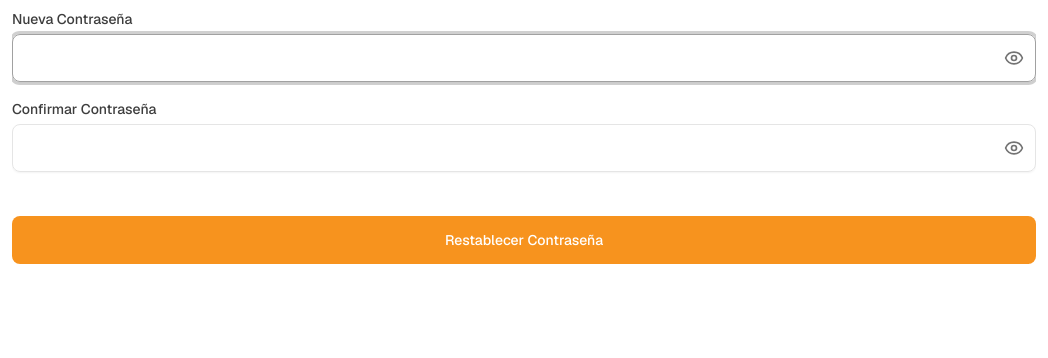
Scenario: PasswordConfirmForm › Error Handling › shows error message when update fails
Type "newpassword123" into the password field labelled "Nueva Contraseña" at [524, 58], box [12,34,1036,82]
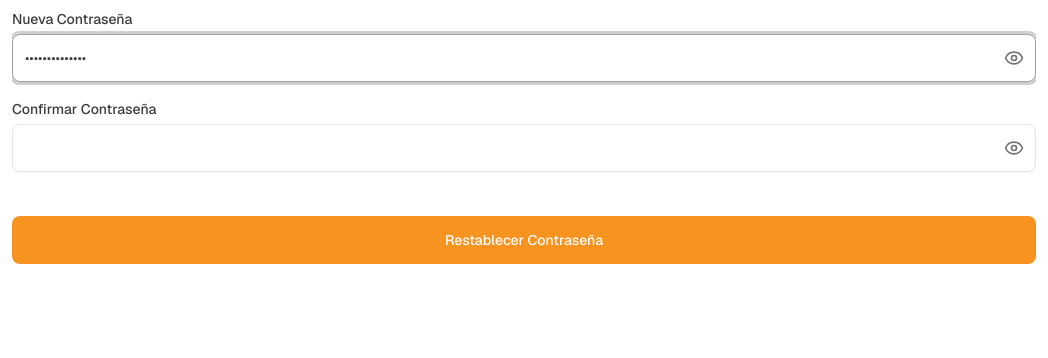
Type "newpassword123" into the password field labelled "Confirmar Contraseña" at [524, 148], box [12,124,1036,172]
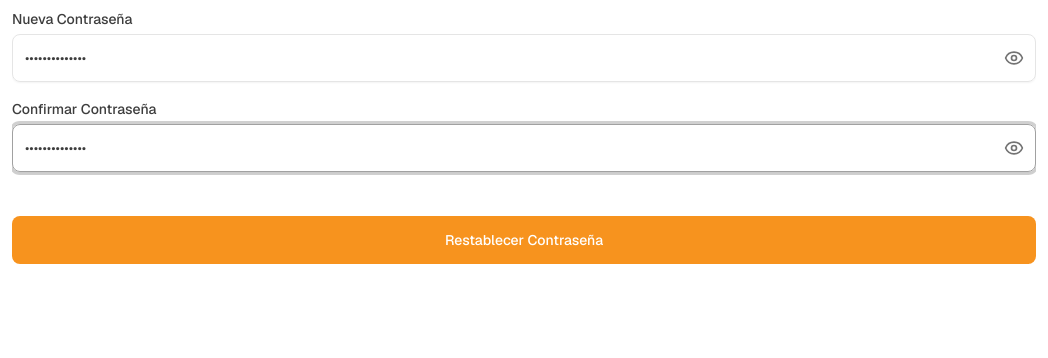
Click the button "Restablecer Contraseña" at [524, 240], box [12,216,1036,264]
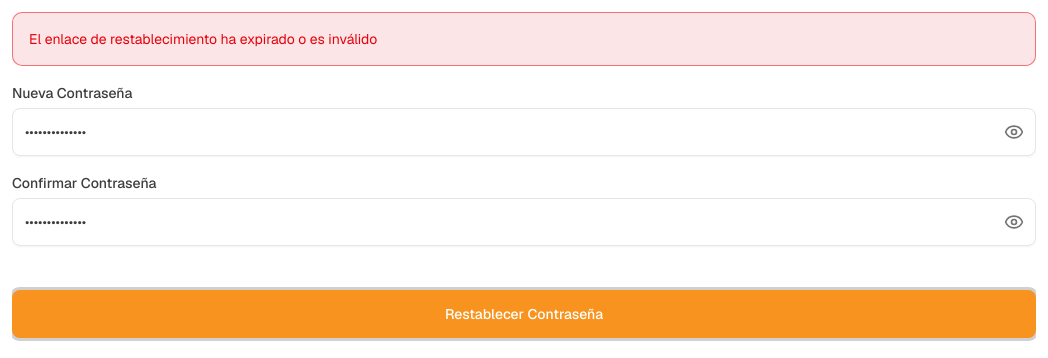
Result: the text "El enlace de restablecimiento ha expirado o es inválido" is shown at [29,30,377,48]
